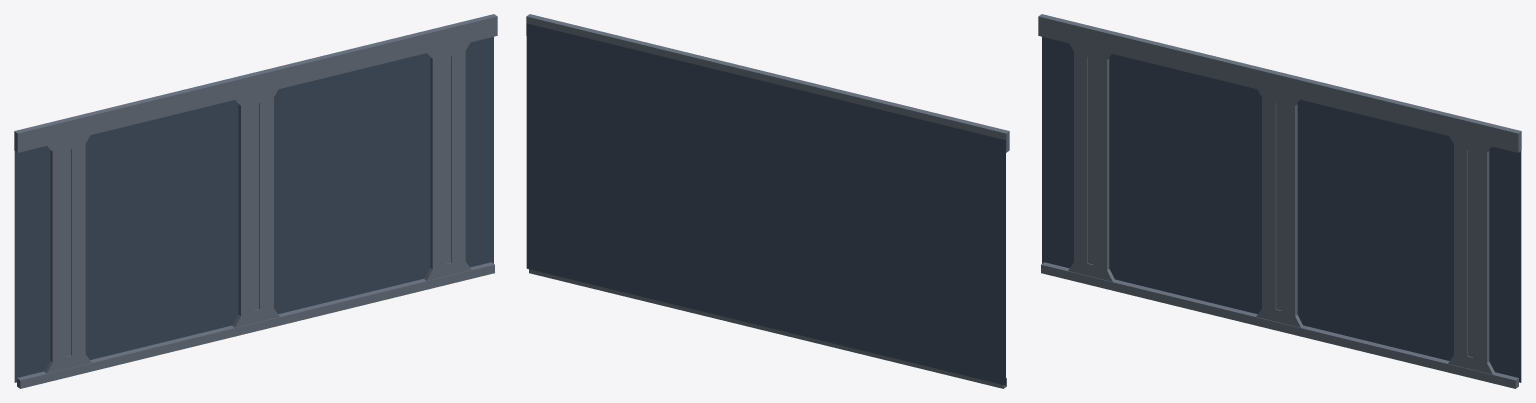
3 renders of one model, left to right at view 1: azimuth 30°, elevation 25°; view 2: azimuth 150°, elevation 25°; view 3: azimuth 330°, elevation 25°, orthographic.
Parts seen in each view (by area): view 1: BG_Plane; view 2: BG_Plane; view 3: BG_Plane.
Boxes of the visible parts, x1=… form: BG_Plane: x1=14, y1=14, x2=497, y2=388; BG_Plane: x1=526, y1=14, x2=1009, y2=388; BG_Plane: x1=1038, y1=14, x2=1521, y2=388.
Size of the model in its own units: 25.95 by 13.23 by 0.3235.
